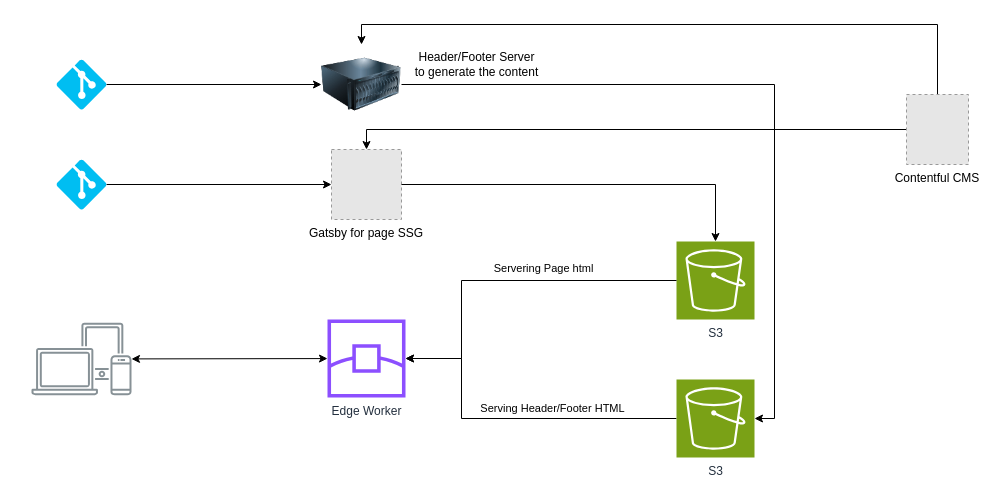
This 997x496 diagram has some shape labels left out. Grey dashed boxes stand in for pictures. The shapes that lost their labels are listed below. From the top down, each one's box as (x1, y1, x2, y2) in pixels, then its label:
(56, 59, 106, 109): Header/Footer Git Repo
(56, 159, 106, 209): Page Git Repo
(31, 322, 131, 395): devices
